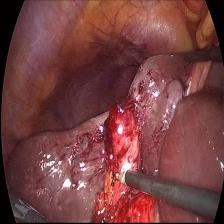Hook: (111, 166, 129, 191)
